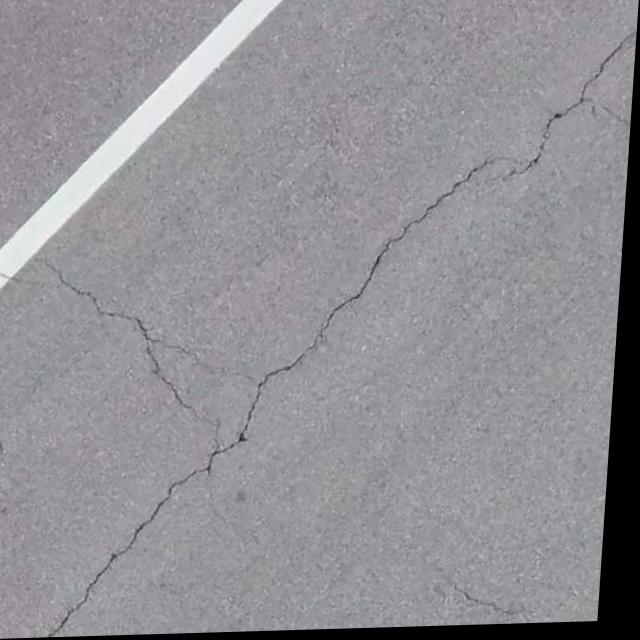Crack: (172, 15, 595, 448), (3, 212, 225, 380), (39, 464, 227, 638)
